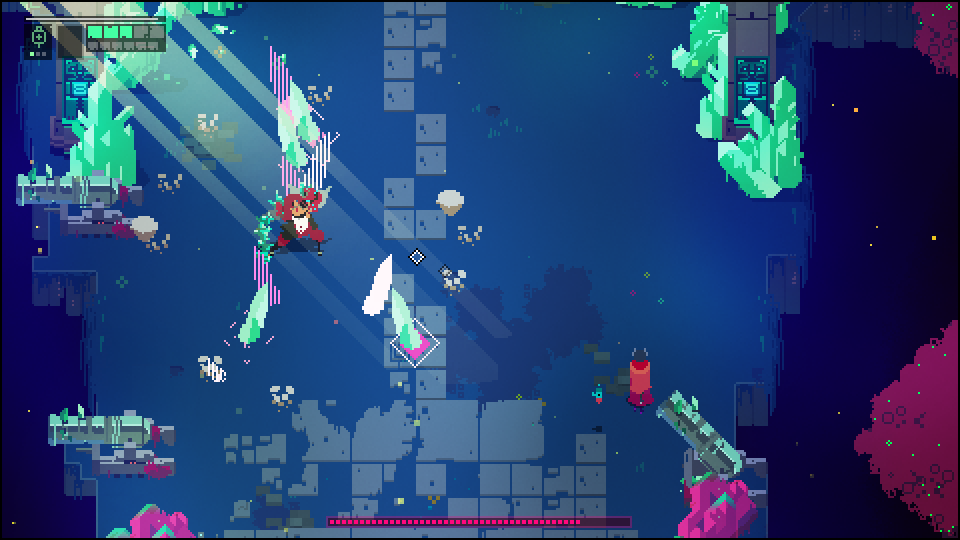hanged_crys: (261, 41, 300, 114), (387, 285, 426, 353), (235, 282, 271, 351), (364, 249, 395, 327), (273, 105, 307, 167), (288, 84, 322, 137)
hanged_man: (251, 188, 332, 260)
player: (627, 345, 654, 403)
